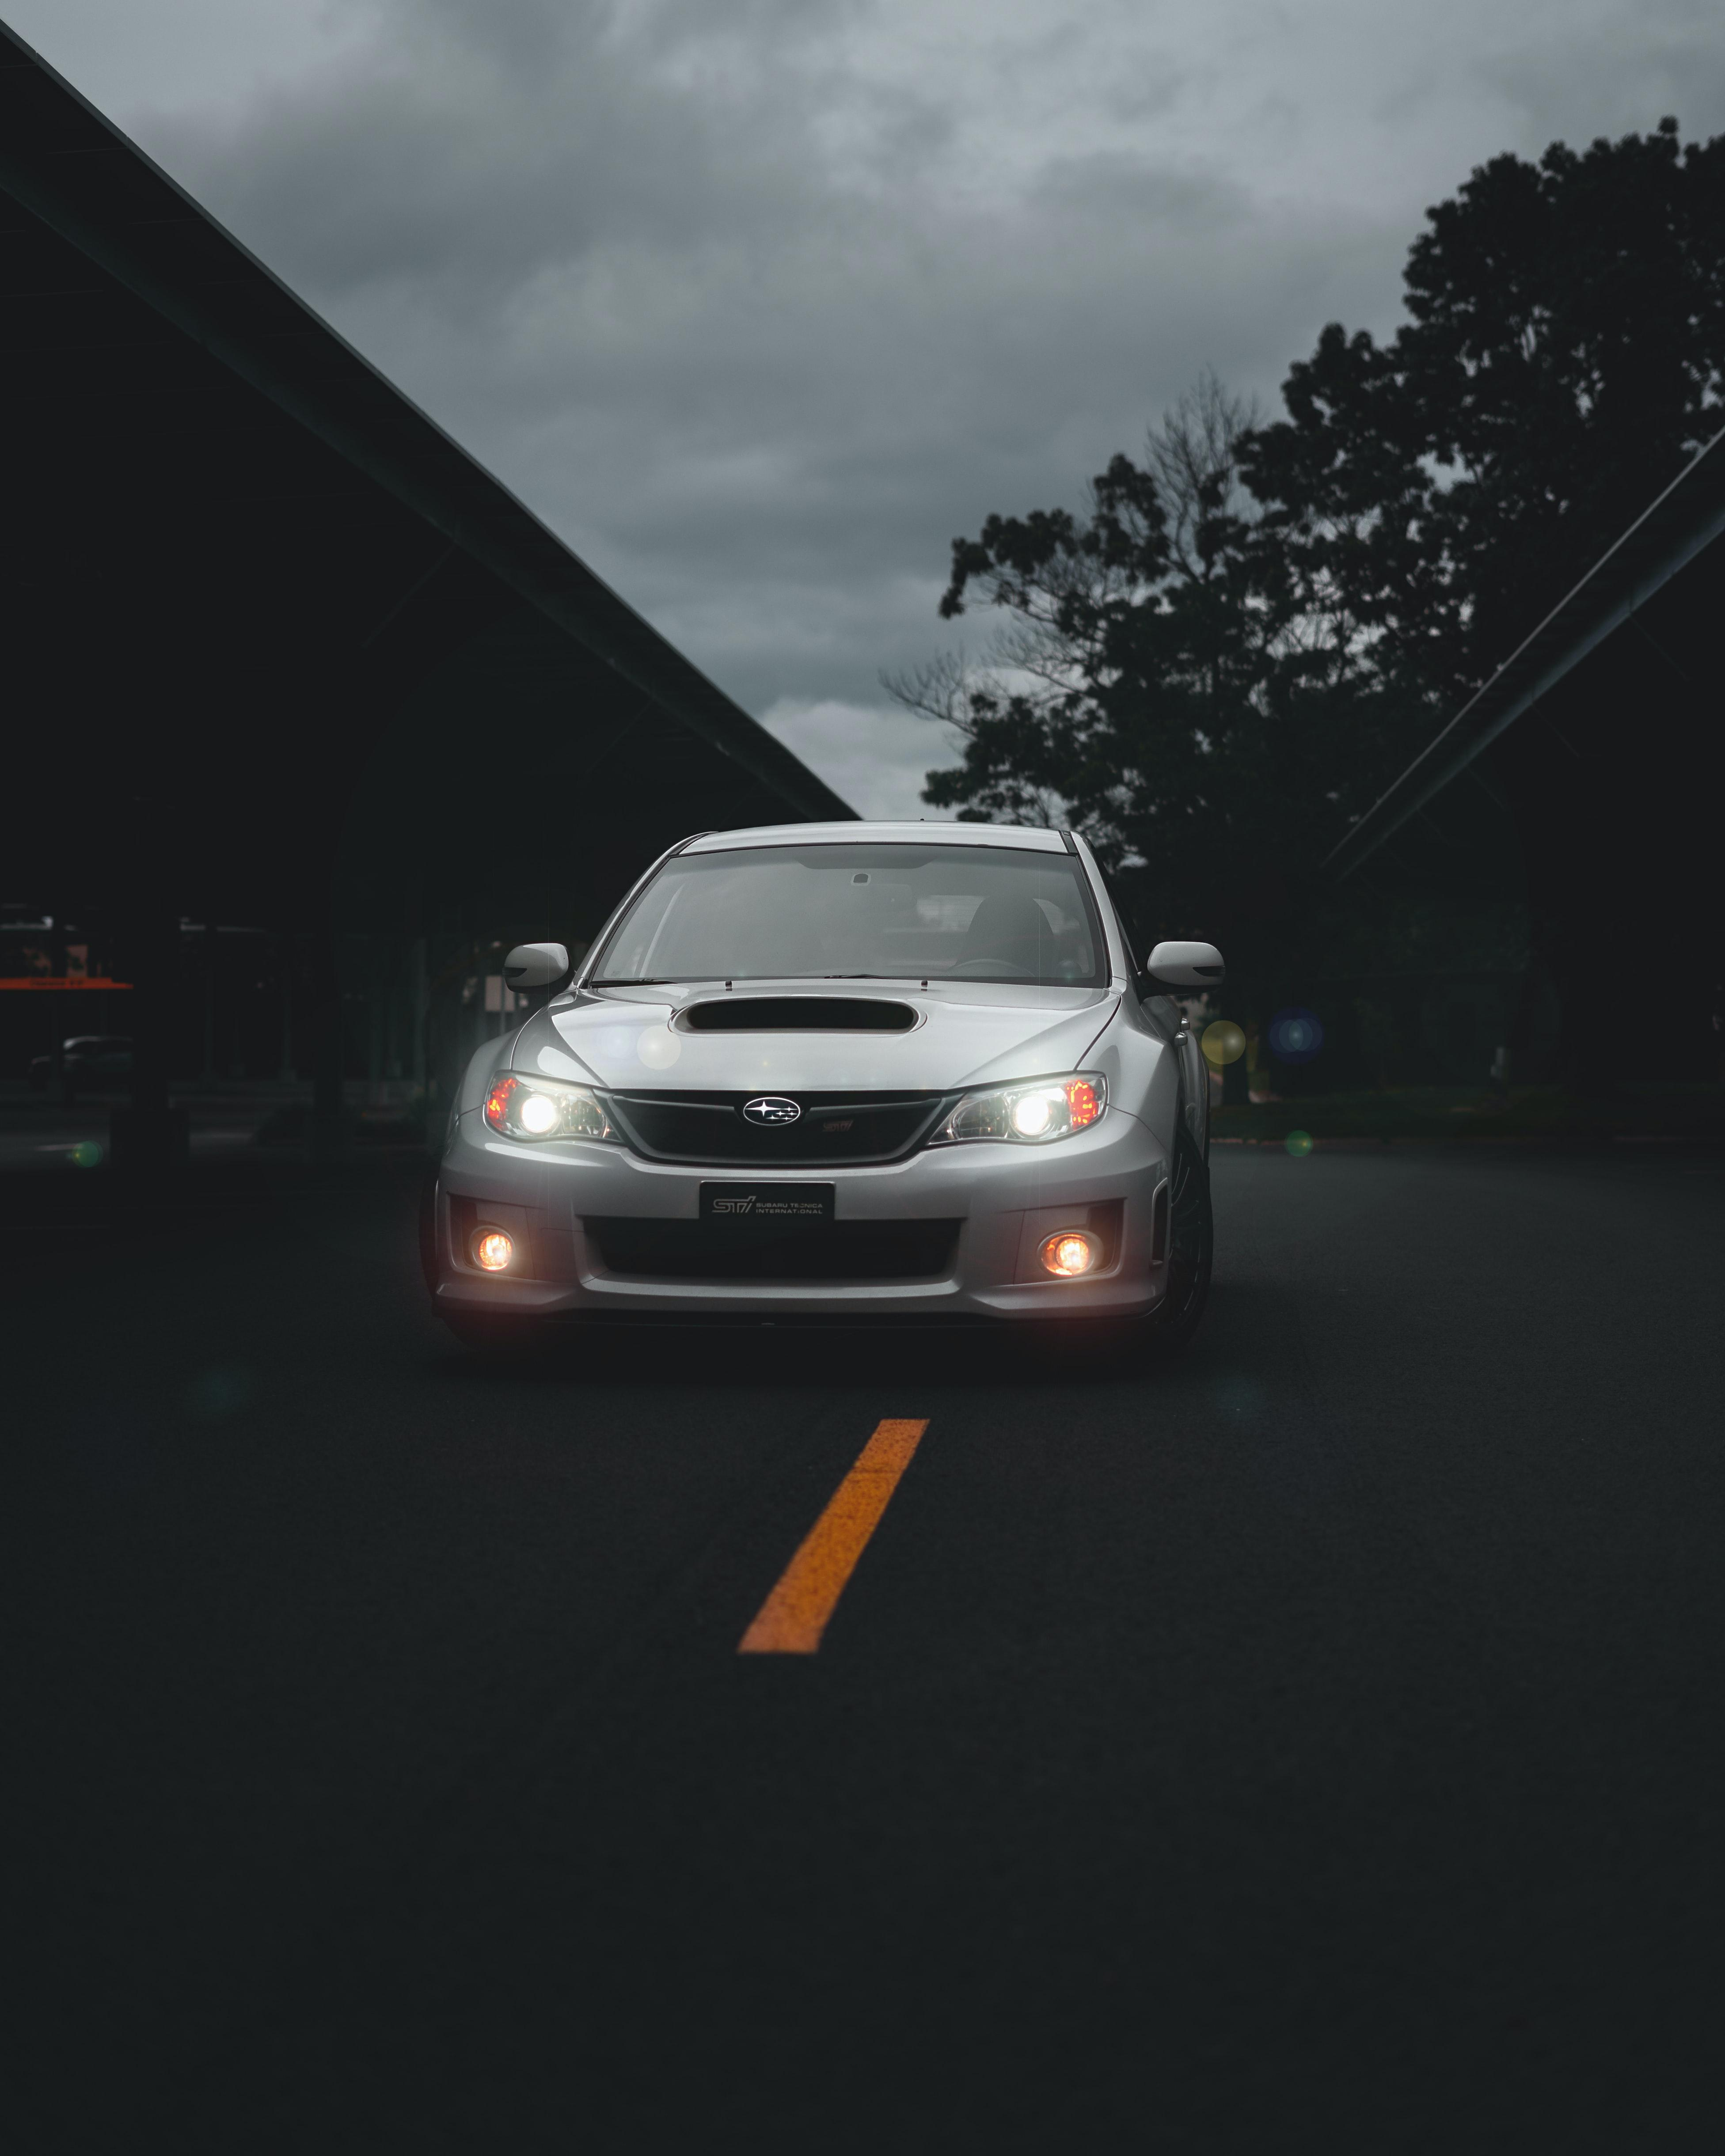subaru: (706, 1074, 826, 1162)
